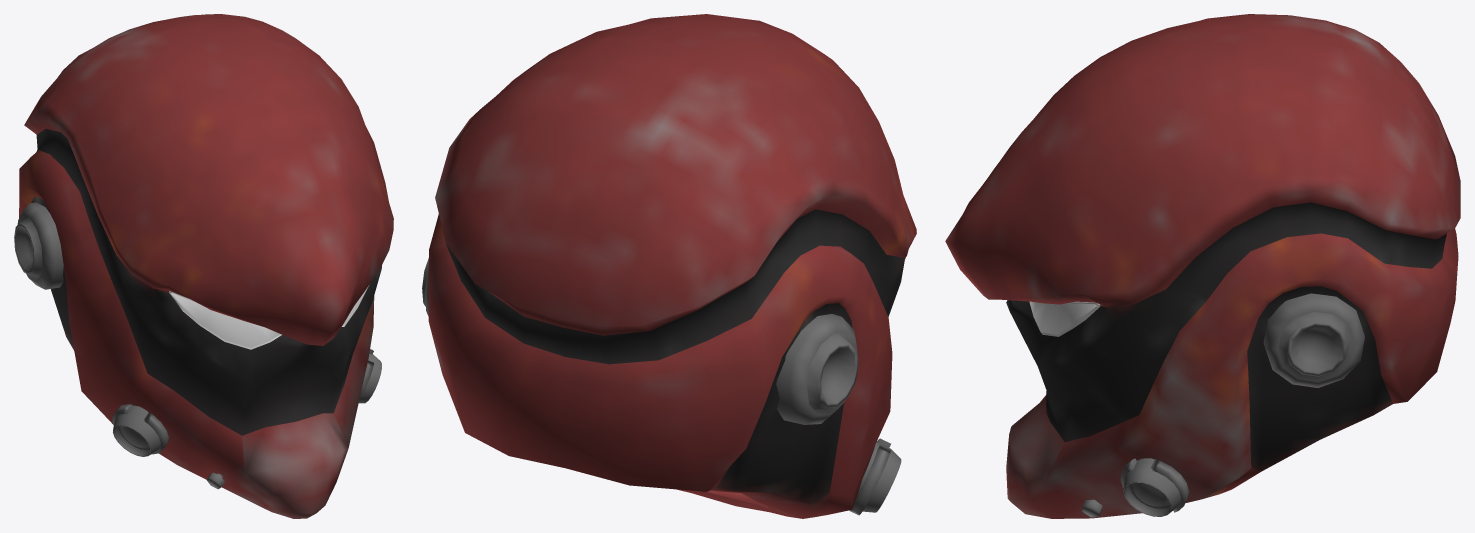
File: head_parts.fbx
3 renders of one model, left to right at view 1: azimuth 30°, elevation 25°; view 2: azimuth 150°, elevation 25°; view 3: azimuth 270°, elevation 25°, orthographic. The views are drawn at different scales.
Parts seen in each view (by area): view 1: head_parts; view 2: head_parts; view 3: head_parts.
Boxes of the visible parts, <box> form: head_parts: <box>14,14,393,518</box>; head_parts: <box>422,14,916,518</box>; head_parts: <box>945,14,1460,518</box>.
Size of the model in its own units: 3.42 by 4.26 by 4.2.
